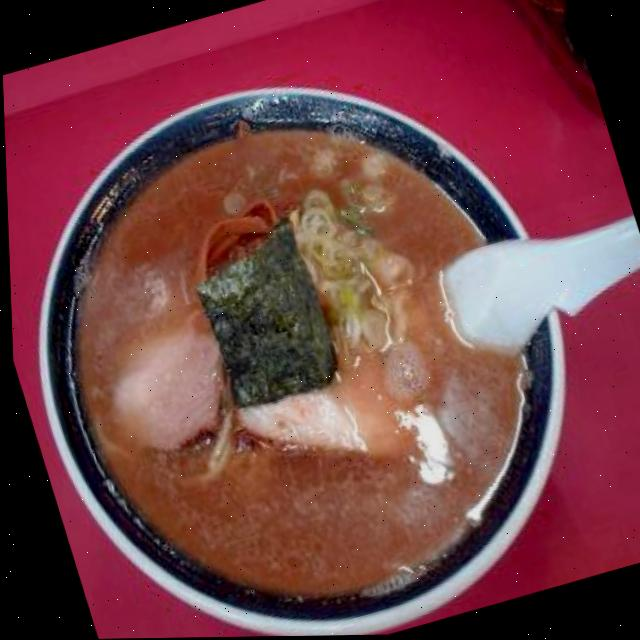面条主食: (0, 8, 639, 640)
